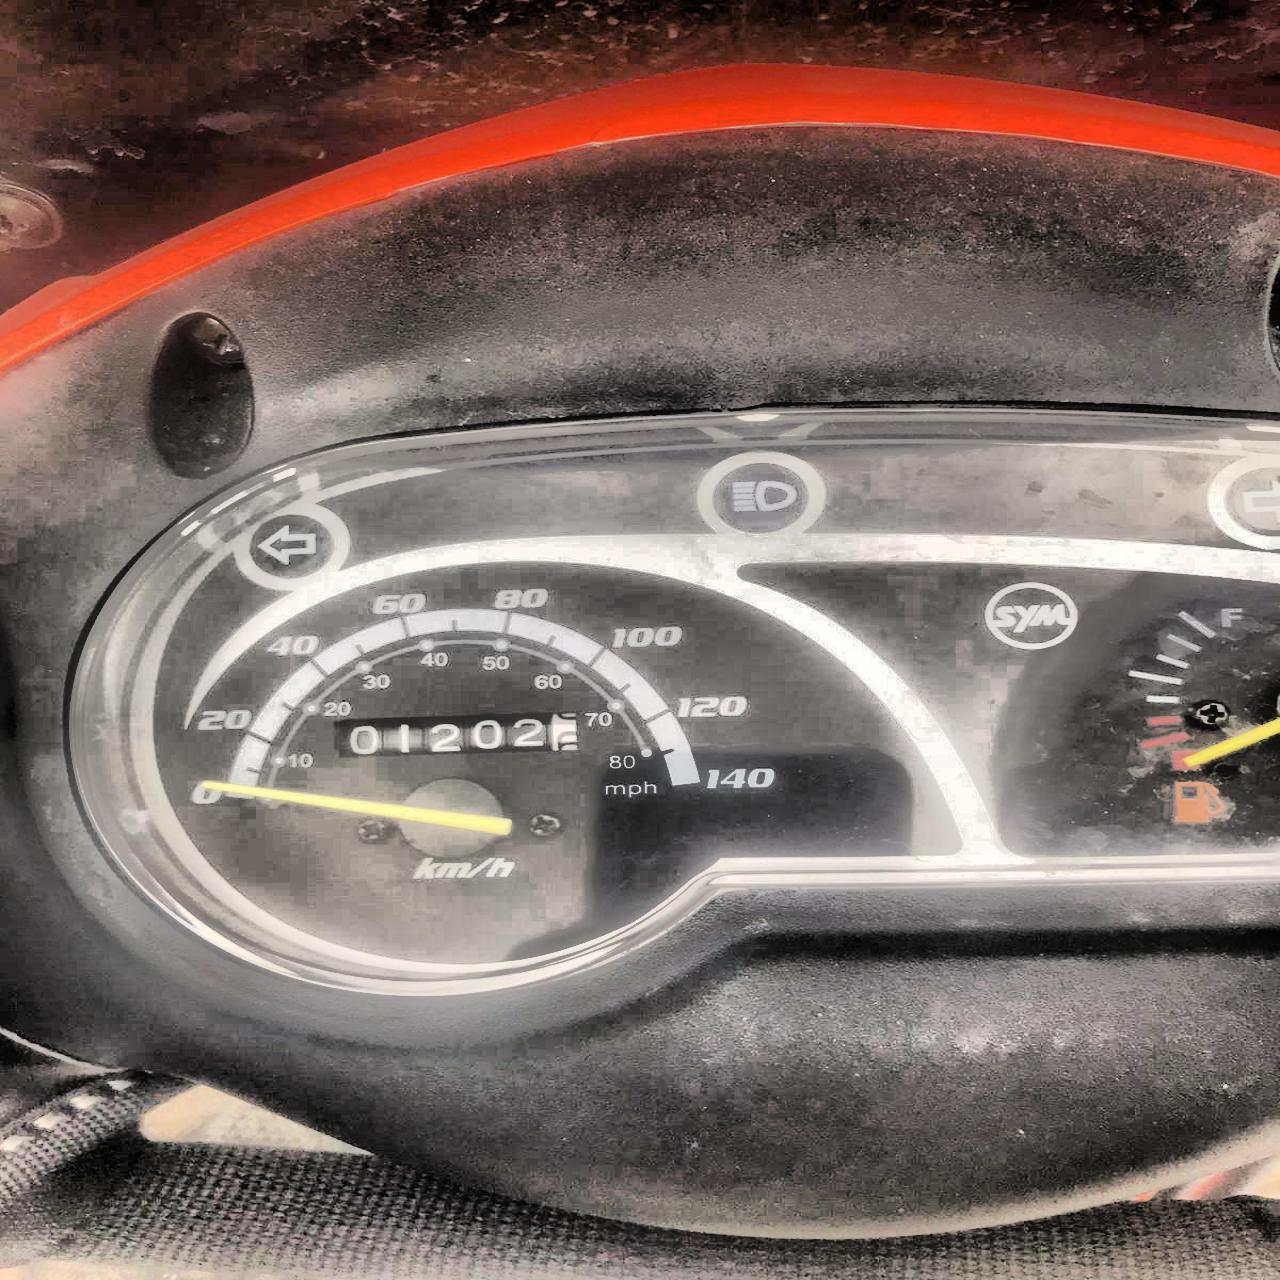0: (345, 721, 379, 755), (470, 717, 502, 751)
1: (393, 719, 416, 756)
2: (511, 717, 546, 749), (428, 721, 461, 754)
6: (553, 728, 581, 754)
odometer: (332, 714, 586, 757)
